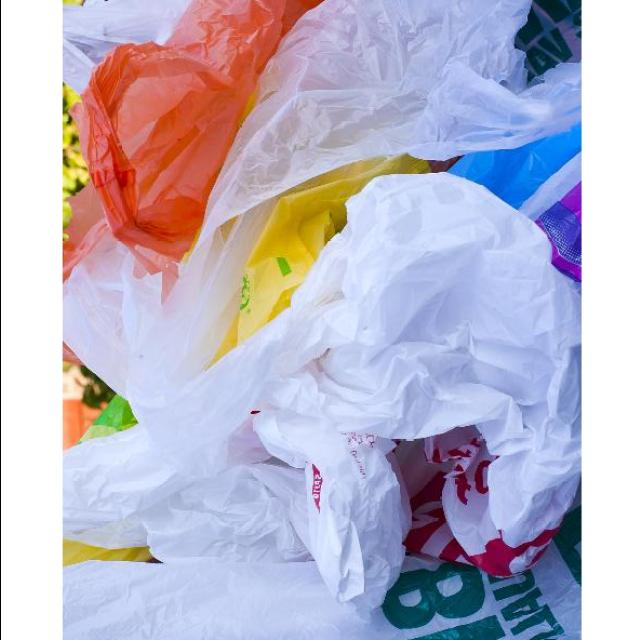plastik: (64, 0, 579, 415), (145, 173, 579, 548), (63, 0, 319, 277), (64, 408, 408, 607), (63, 508, 579, 640)
